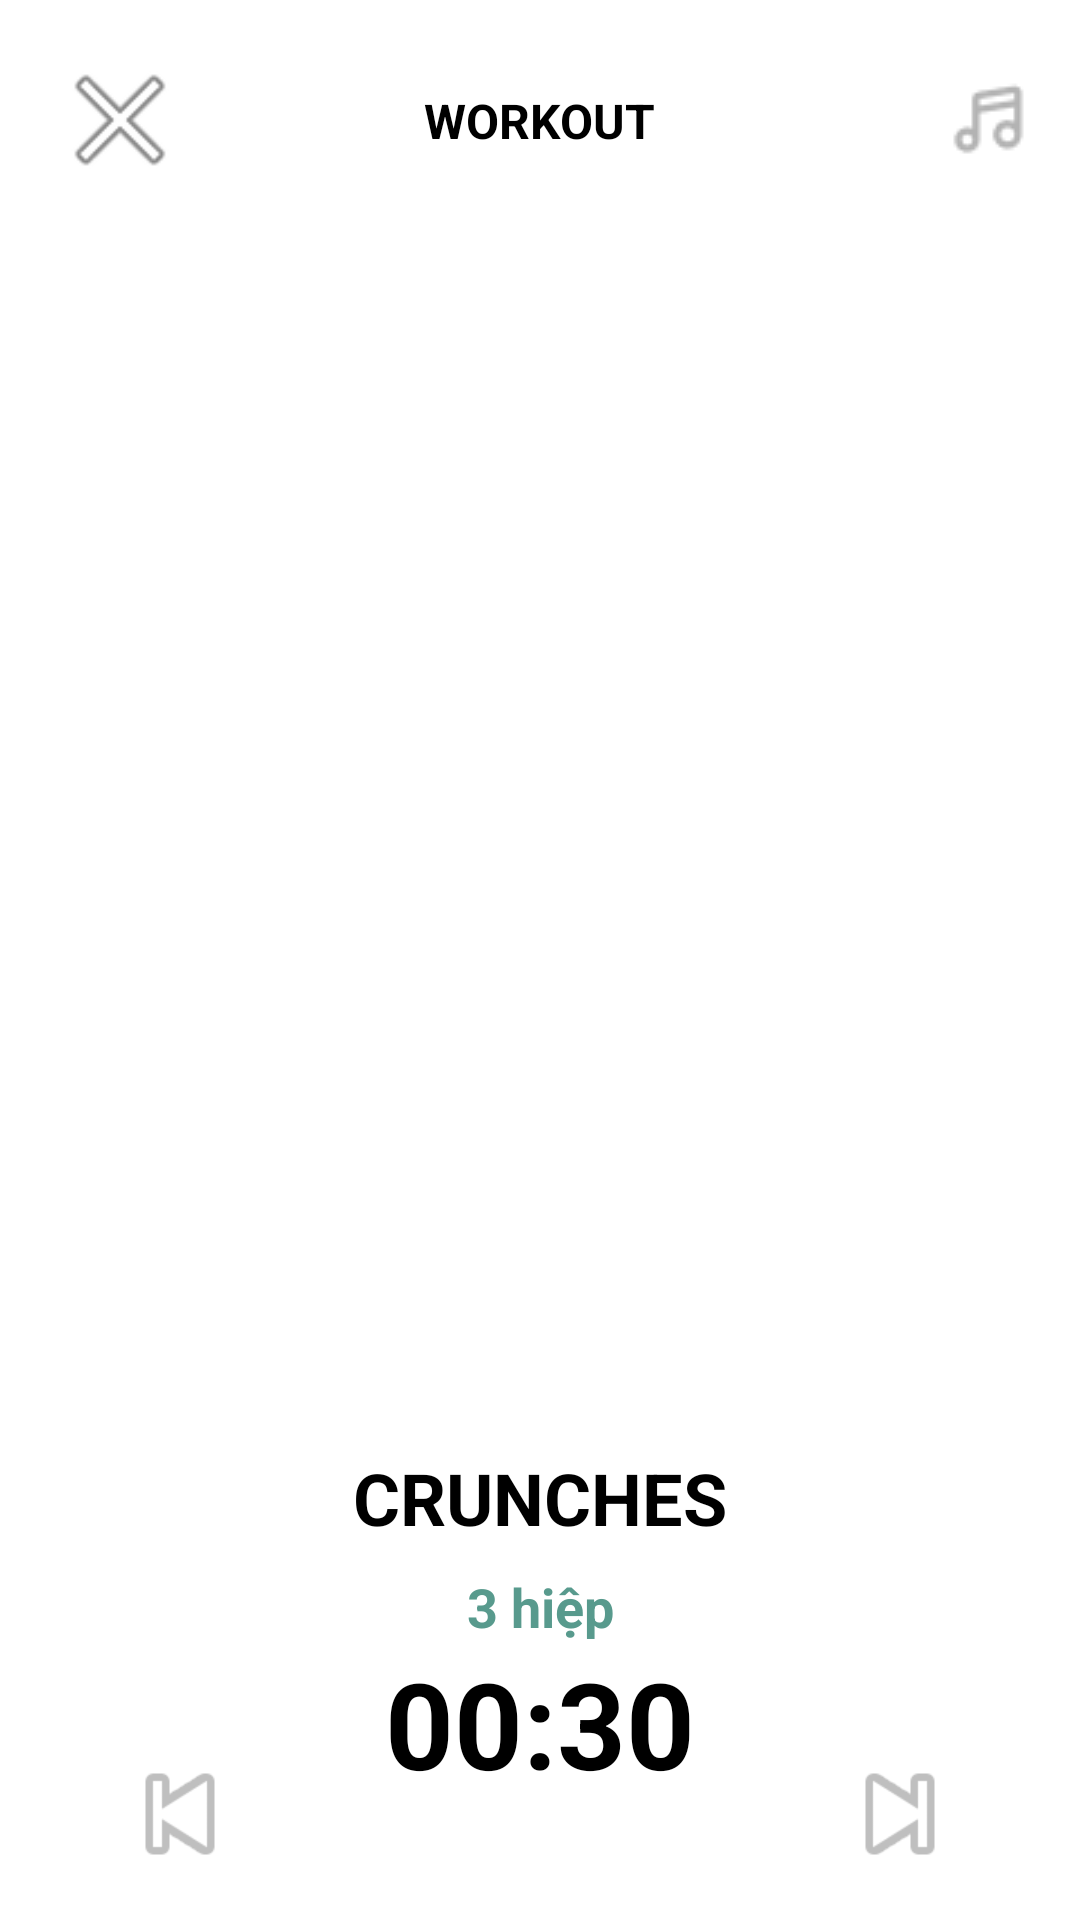

Screen size 1080px×1920px. Icon name, then its center in pixels as [x,y]:
close clear cancel: [120,120]
next: [900,1814]
previous: [180,1814]
workout music: [988,119]
